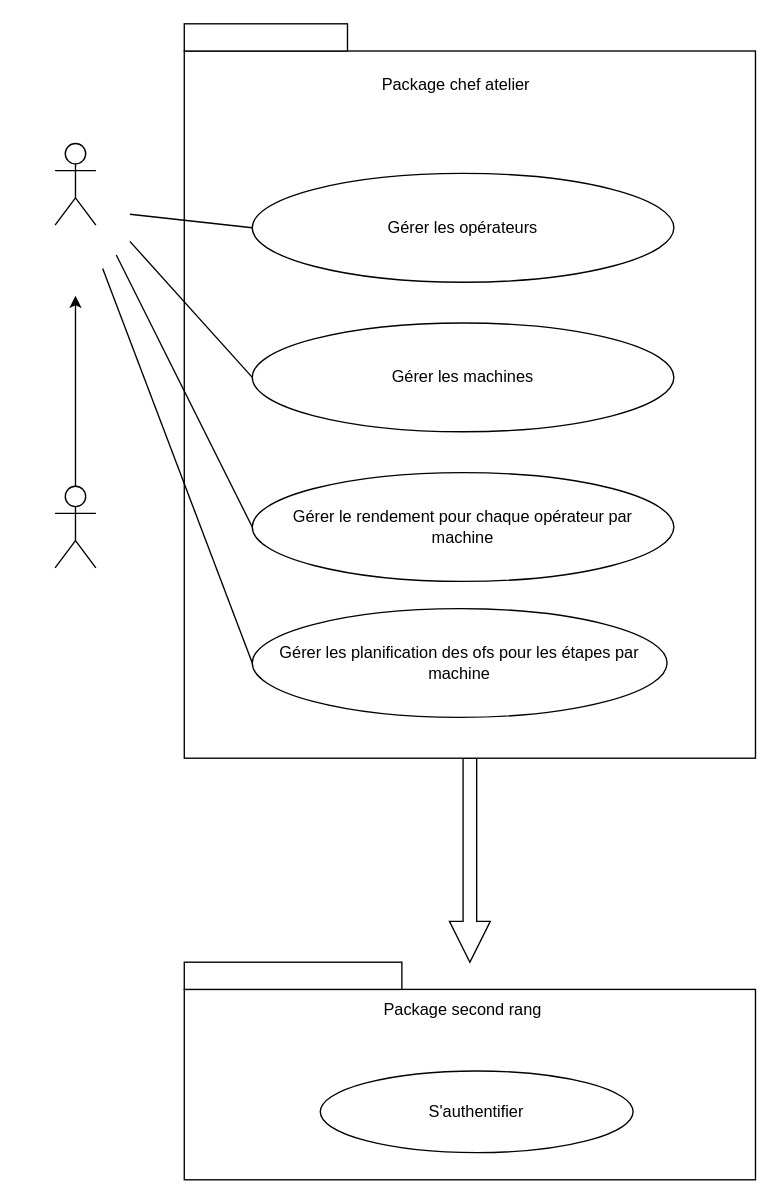
Image size: 779x1204. Some labels were removed from this diagram. Here are the shapes that lost their labels. From the top down, the box of each, then its label:
(54, 142, 96, 225): Chef d'atelier
(54, 485, 96, 568): administrateur
